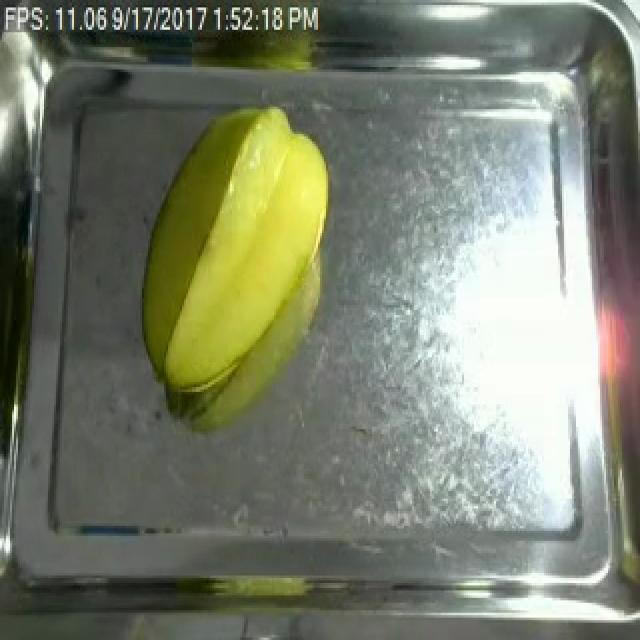fruit: (136, 97, 338, 412)
